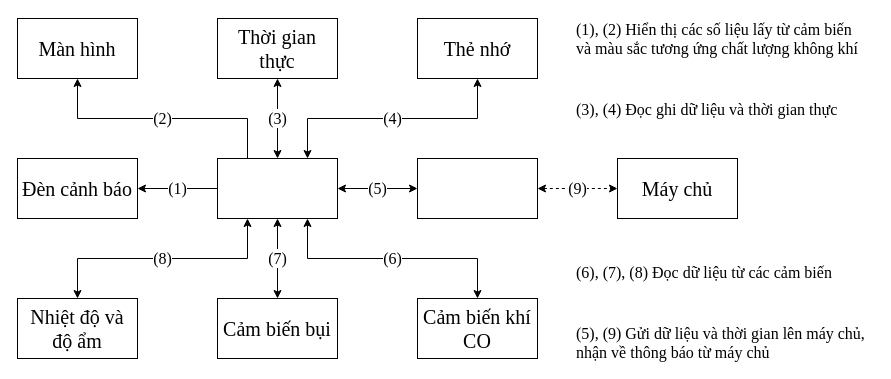
This 891x379 diagram has some shape labels left out. Each missing label, with the box of its shape:
Kết nối mạng: (416, 158, 538, 218)
Vi điều khiển: (216, 158, 338, 218)
